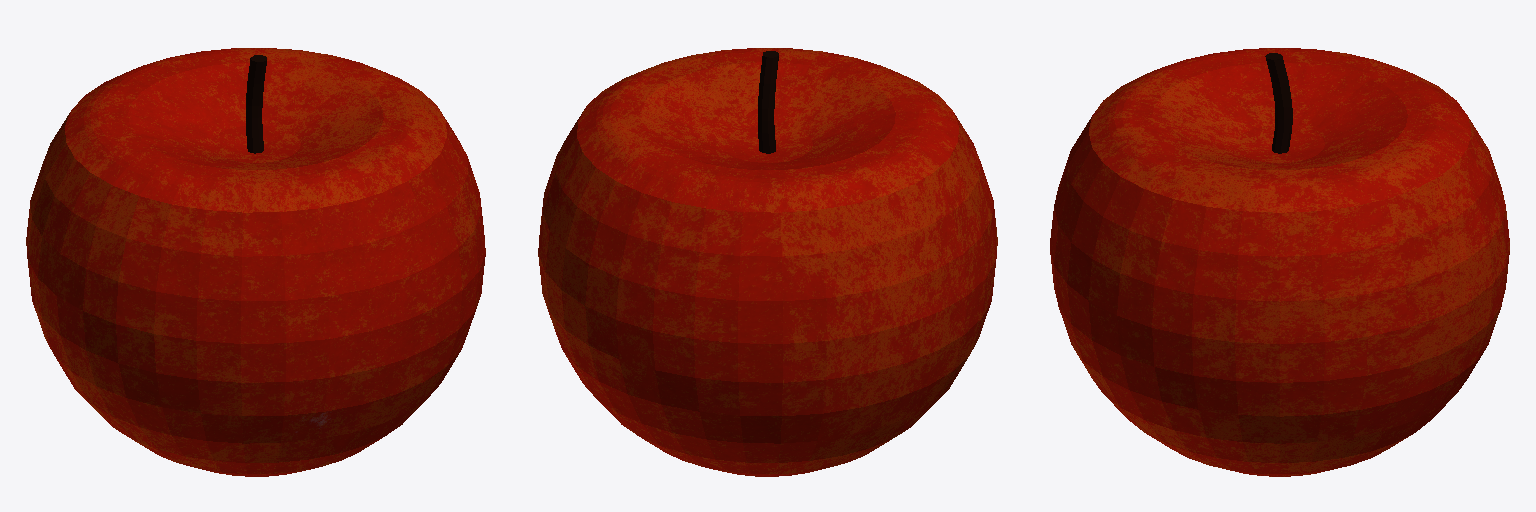
The picture shows the model from 3 angles: view 1: azimuth 30°, elevation 25°; view 2: azimuth 150°, elevation 25°; view 3: azimuth 270°, elevation 25°; orthographic projection.
Parts seen in each view (by area): view 1: red_apple; view 2: red_apple; view 3: red_apple.
Boxes of the visible parts, box(x1,y1,x2,y2) form: red_apple: box(26, 48, 485, 476); red_apple: box(538, 48, 997, 476); red_apple: box(1050, 48, 1509, 476).
Size of the model in its own units: 0.06 by 0.0574 by 0.06.
Materials: 2 (1 with a texture image).